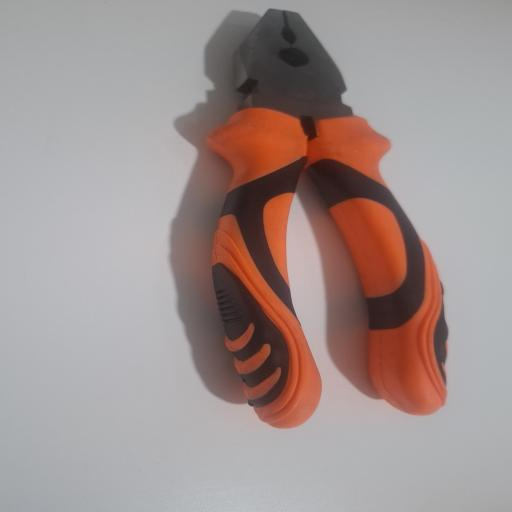alicate: (202, 6, 452, 432)
